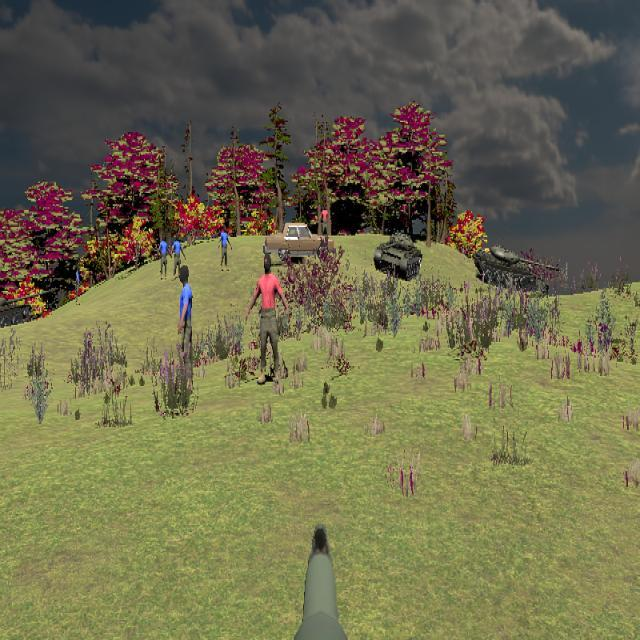Human: (246, 255, 289, 384), (179, 264, 193, 387), (218, 223, 232, 272), (171, 233, 185, 280), (158, 234, 171, 280)
Tank: (473, 245, 562, 296), (374, 231, 423, 281), (0, 290, 52, 330)
car: (263, 222, 334, 264)
